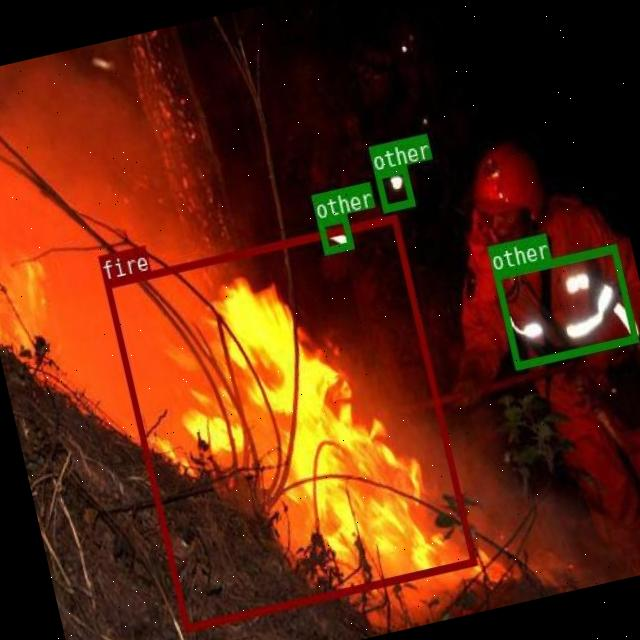fire: (103, 212, 474, 630)
